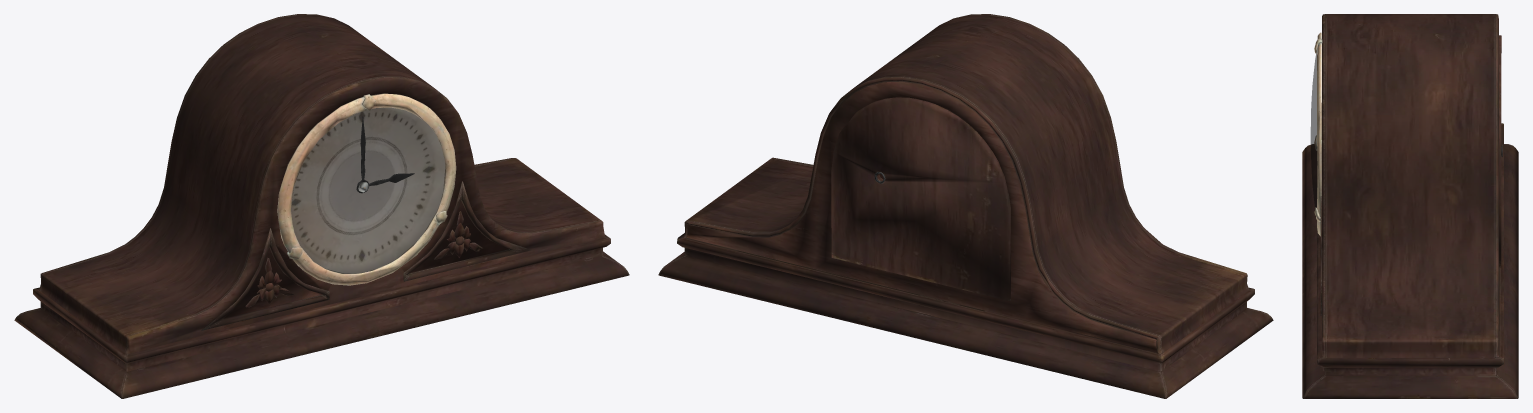
File: mantel_clock_01.glb
The picture shows the model from 3 angles, left to right: view 1: azimuth 30°, elevation 25°; view 2: azimuth 150°, elevation 25°; view 3: azimuth 270°, elevation 25°; orthographic projection.
Visible parts, largest first — view 1: mantel_clock_01, mantel_clock_01_glass; view 2: mantel_clock_01; view 3: mantel_clock_01, mantel_clock_01_glass.
Part boxes in pixels (x1,y1,x2,y2): mantel_clock_01: (14, 14, 629, 398); mantel_clock_01_glass: (291, 107, 445, 273); mantel_clock_01: (658, 14, 1273, 398); mantel_clock_01: (1302, 14, 1518, 398); mantel_clock_01_glass: (1310, 50, 1317, 208).
Bounding box in the file's own units: 0.3418 × 0.1604 × 0.126.
2 materials, 2 textured.
